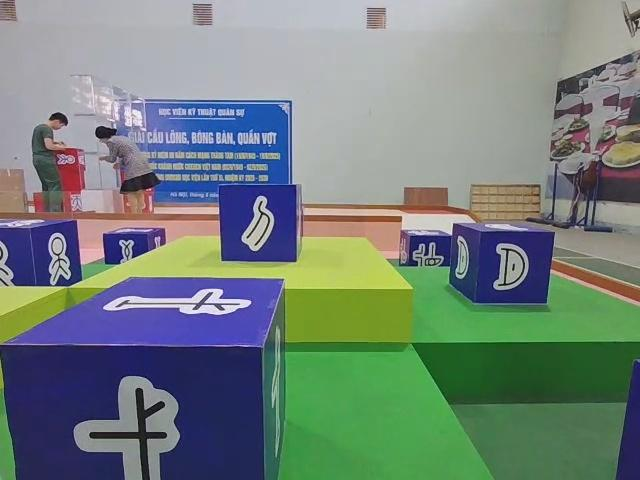R2 Real Blue: (0, 273, 287, 480), (448, 223, 554, 307), (220, 184, 306, 264), (0, 221, 81, 290), (103, 229, 167, 267), (399, 231, 454, 269)
